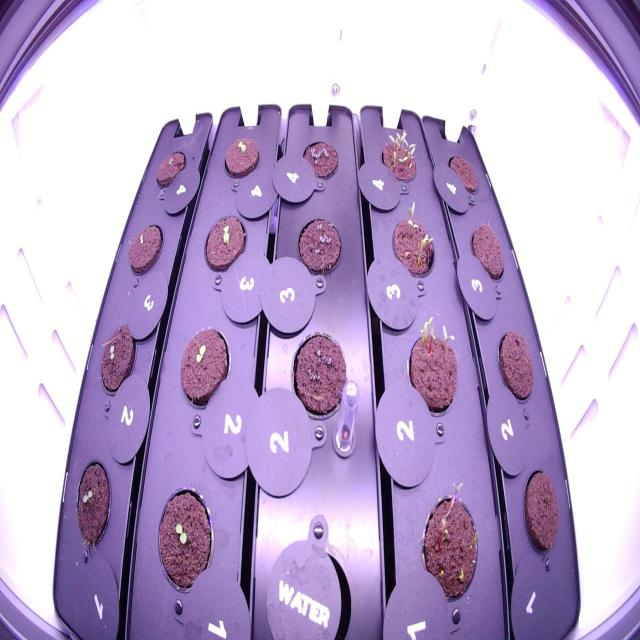germination: (410, 467, 481, 610), (149, 478, 218, 604), (402, 306, 462, 426), (174, 316, 234, 422), (66, 451, 115, 557), (388, 194, 440, 289), (287, 207, 348, 283), (197, 209, 252, 281), (94, 317, 139, 401), (376, 121, 426, 191), (124, 214, 166, 281), (219, 129, 265, 187), (293, 132, 342, 183)
pod: (283, 319, 354, 432), (517, 461, 563, 567), (492, 322, 540, 405), (464, 216, 510, 290), (440, 144, 485, 202), (154, 144, 188, 194)
